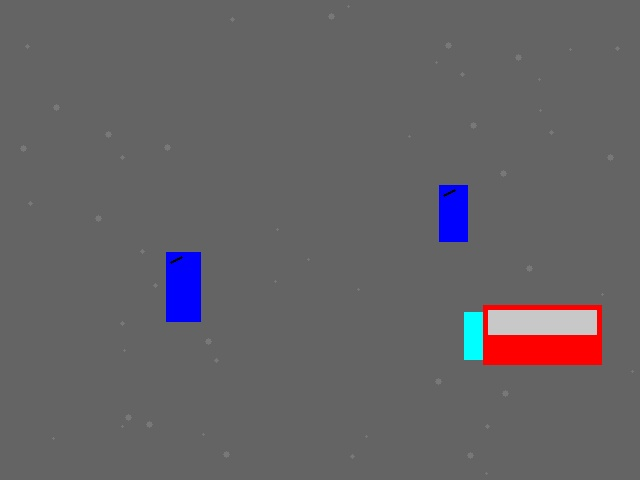car: (483, 305, 601, 364)
motorcycle: (166, 252, 200, 321), (439, 185, 467, 241)
truck: (464, 312, 568, 359)
